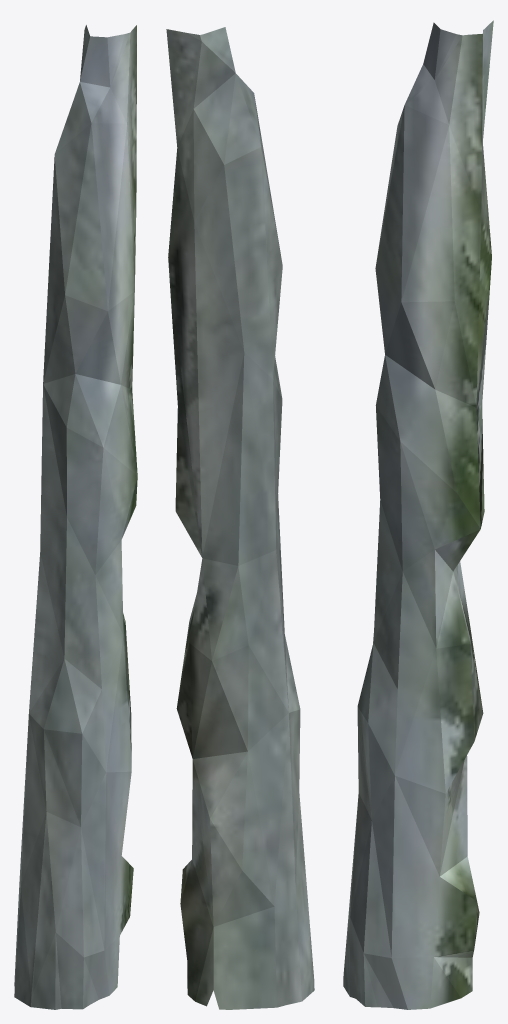
The picture shows the model from 3 angles, left to right: view 1: azimuth 30°, elevation 25°; view 2: azimuth 150°, elevation 25°; view 3: azimuth 330°, elevation 25°; orthographic projection. The views are drawn at different scales.
Size of the model in its own units: 0.4028 by 2.95 by 0.337.
1 material, 1 textured.
